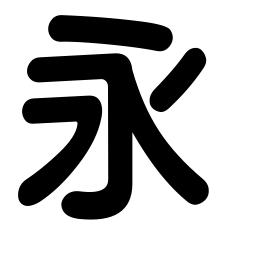D: (45, 12, 110, 44)
HSZ: (92, 50, 134, 89)
Hs: (25, 55, 80, 84)
Ne: (178, 172, 211, 206)
PNc: (136, 94, 169, 140)
PZe: (14, 176, 42, 208)
Ps: (179, 44, 209, 79)
SG: (60, 185, 132, 221)
Sm: (106, 141, 134, 170)
TPZ: (66, 94, 103, 145)
Ts: (20, 96, 50, 128)
